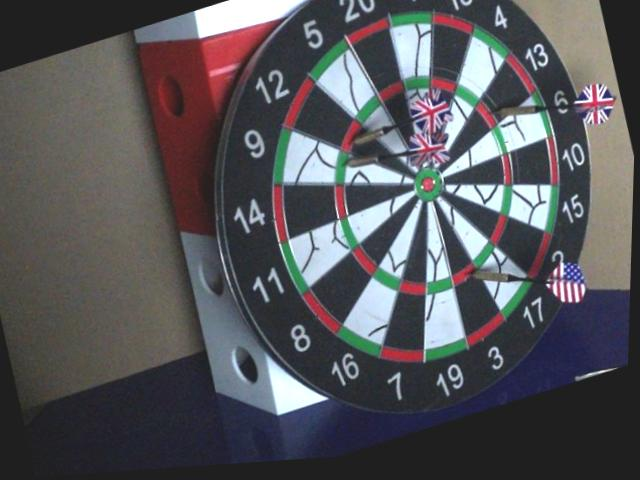single_8: (478, 100, 507, 130)
